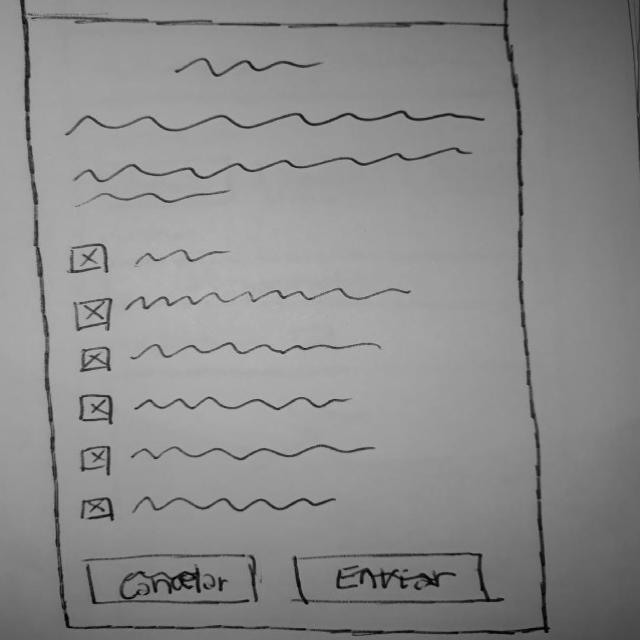button: (294, 552, 494, 607), (82, 552, 265, 609)
checkbox: (70, 284, 418, 336), (79, 339, 386, 379), (79, 443, 383, 479), (78, 393, 360, 427), (77, 494, 345, 527), (63, 243, 247, 277)
container: (17, 16, 559, 639), (13, 1, 518, 30)
text: (62, 109, 494, 138), (168, 51, 328, 83)
textbox: (65, 144, 483, 212)
